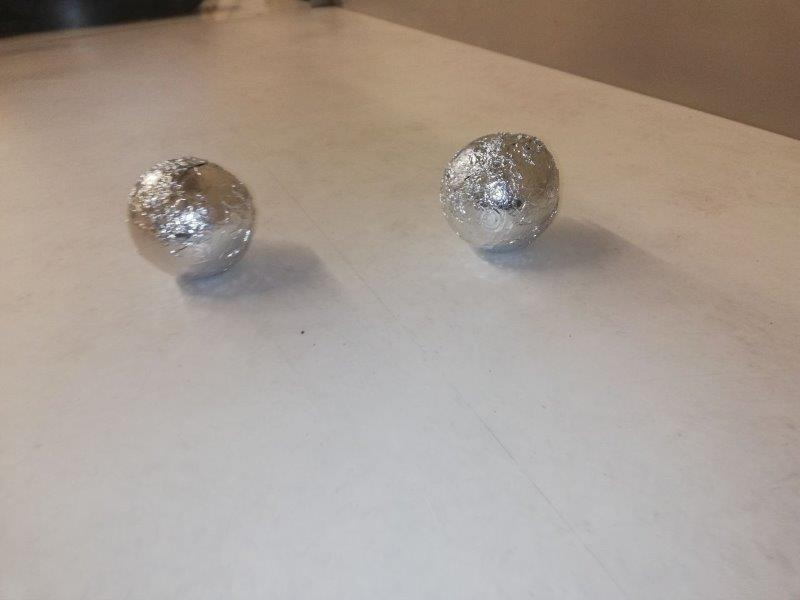bianca: (123, 153, 258, 284), (440, 131, 559, 253)
